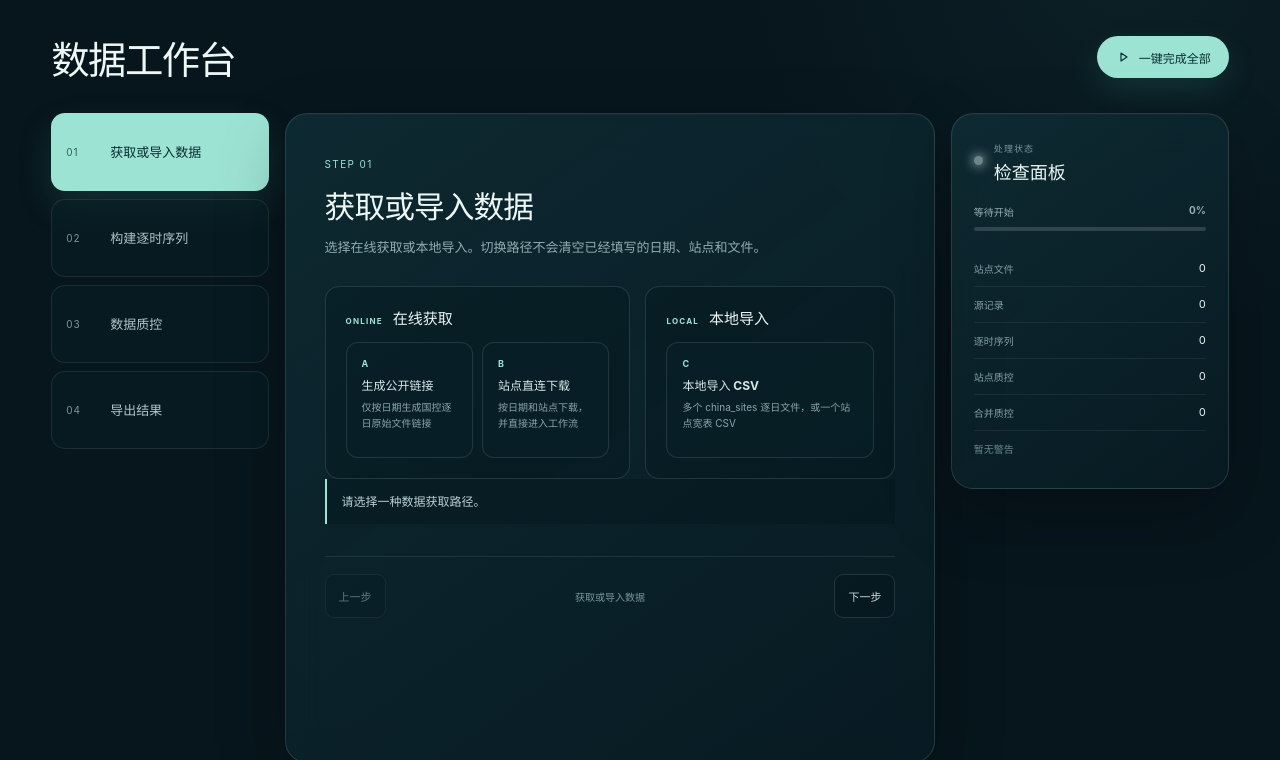
Test: App four-stage shell › builds public links without requiring a station or enabling stage two
(page scrolled)
Click the button "A 生成公开链接 仅按日期生成国控逐日原始文件链接".
click(409, 400)  # box [346,342,473,458]
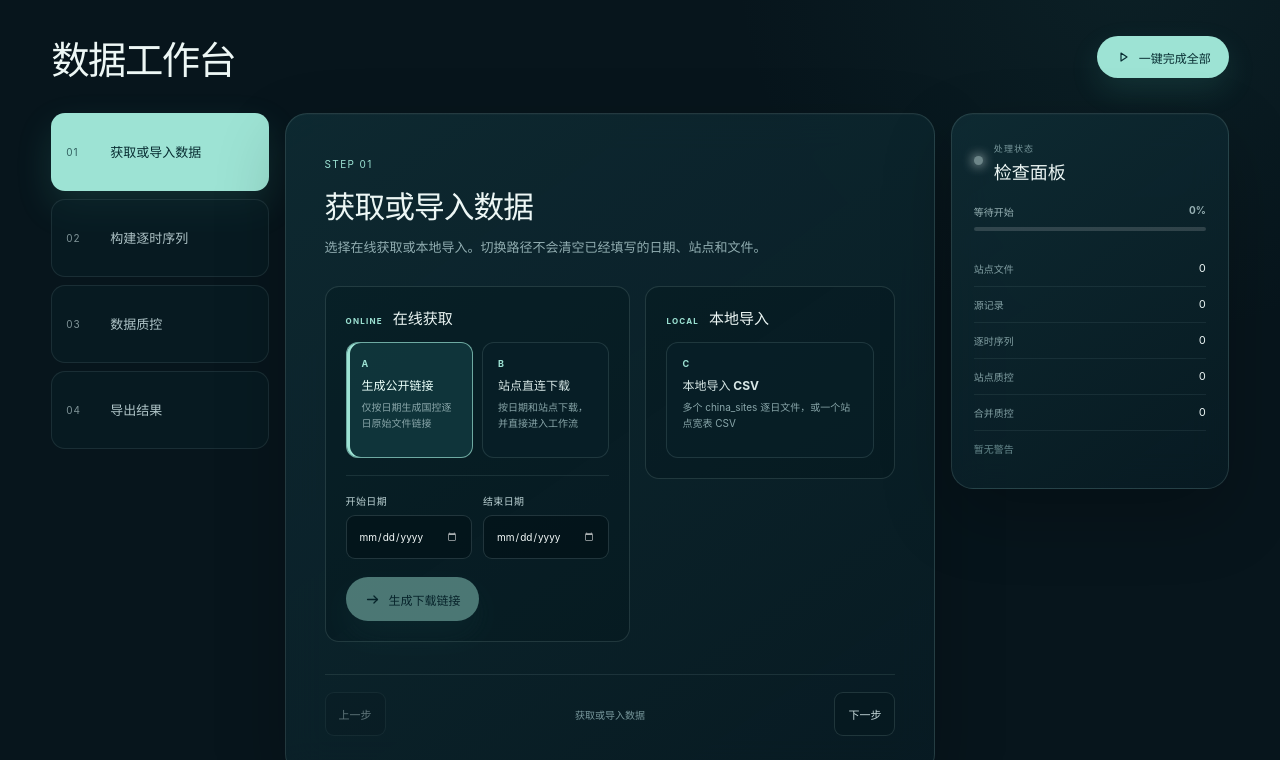
Type "2024-11-01" into the date field labelled "开始日期".
click(409, 537); type("2024-11-01")  # box [346,515,472,559]
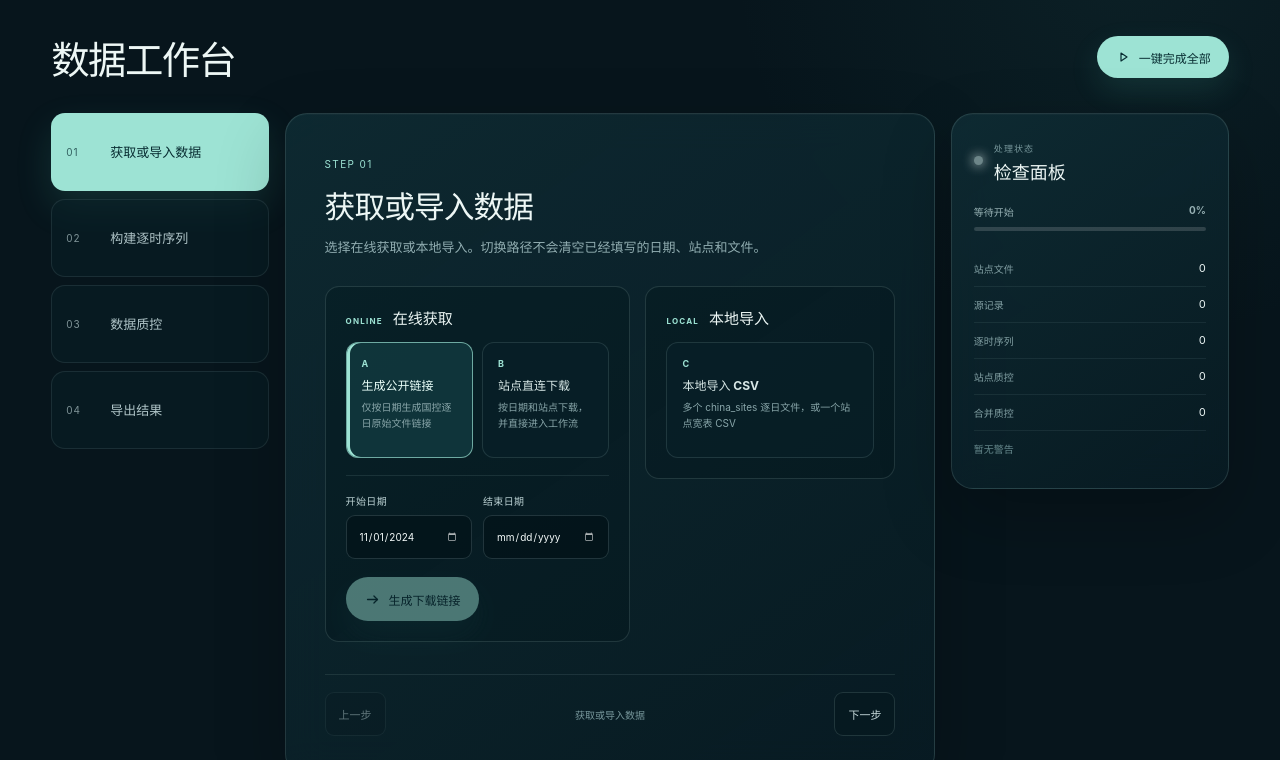
Type "2024-11-01" into the date field labelled "结束日期".
click(546, 537); type("2024-11-01")  # box [483,515,609,559]
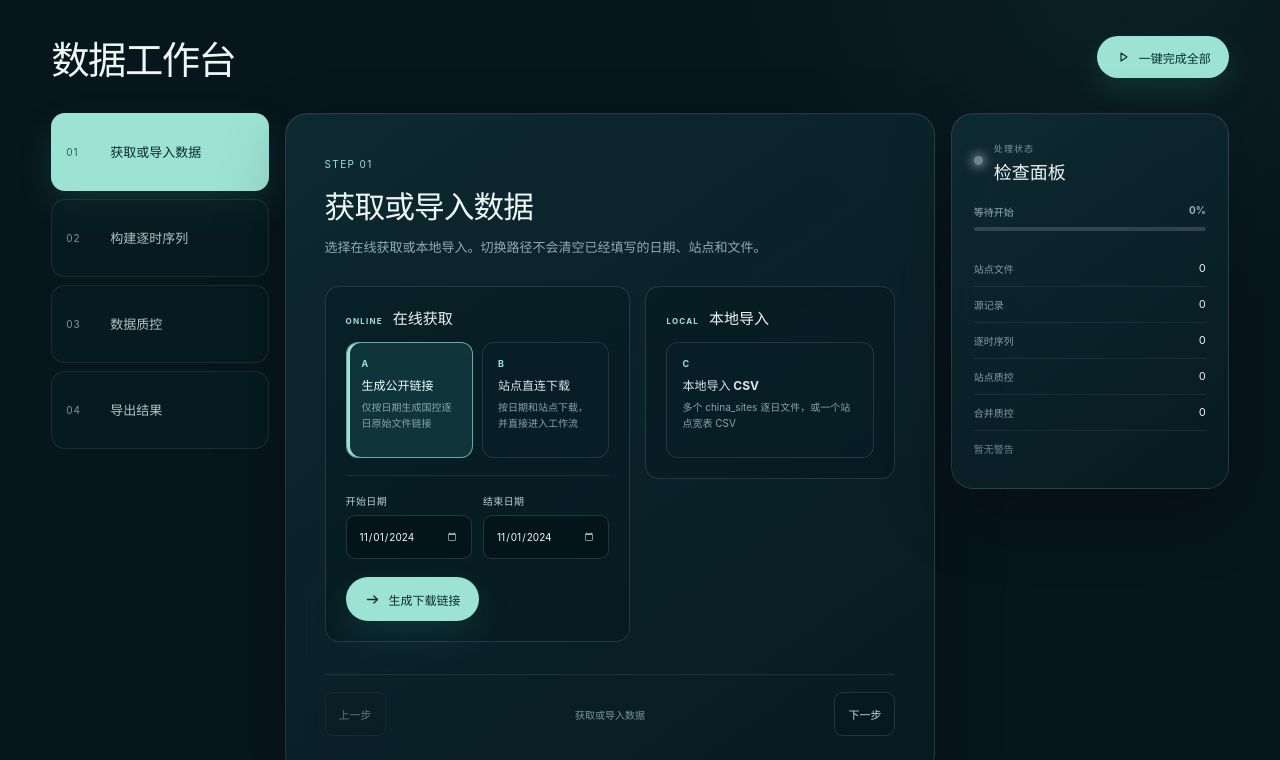
Click the button "生成下载链接".
click(412, 599)  # box [346,577,479,621]
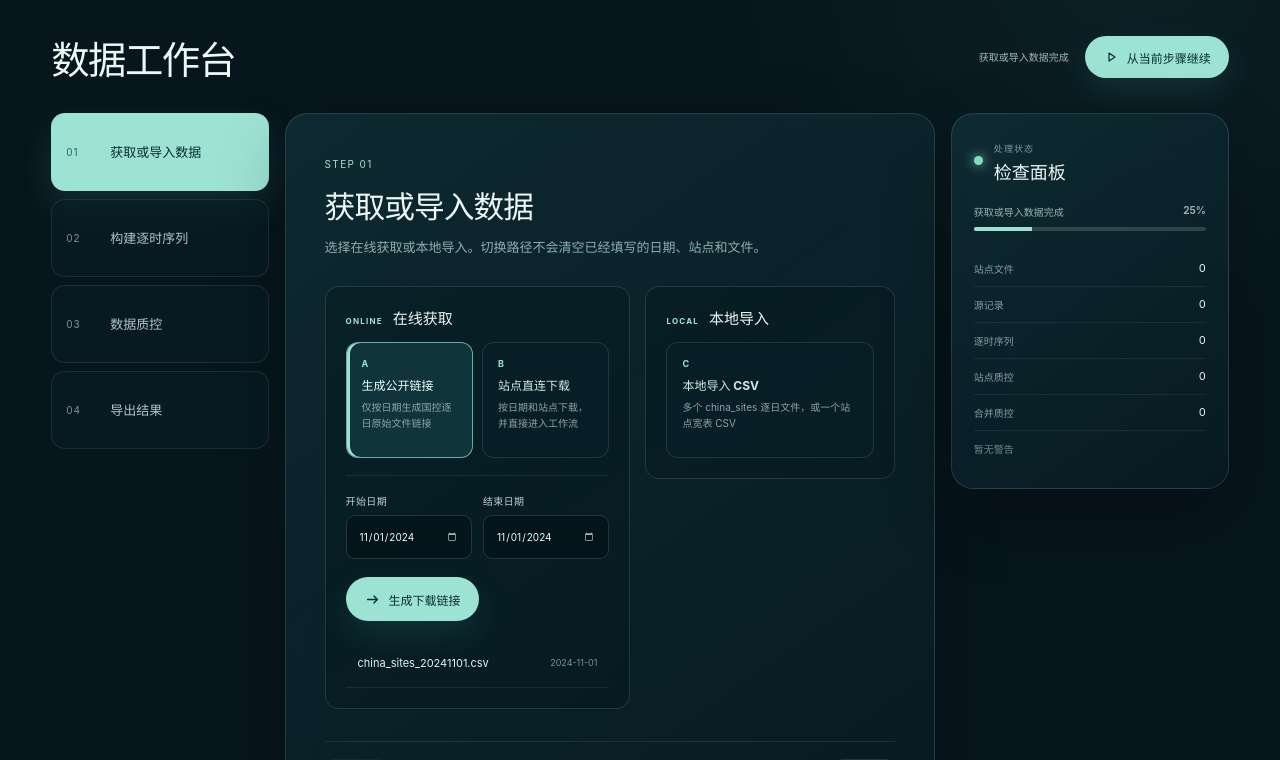
Click the button "02 构建逐时序列".
click(160, 238)  # box [51,199,269,277]
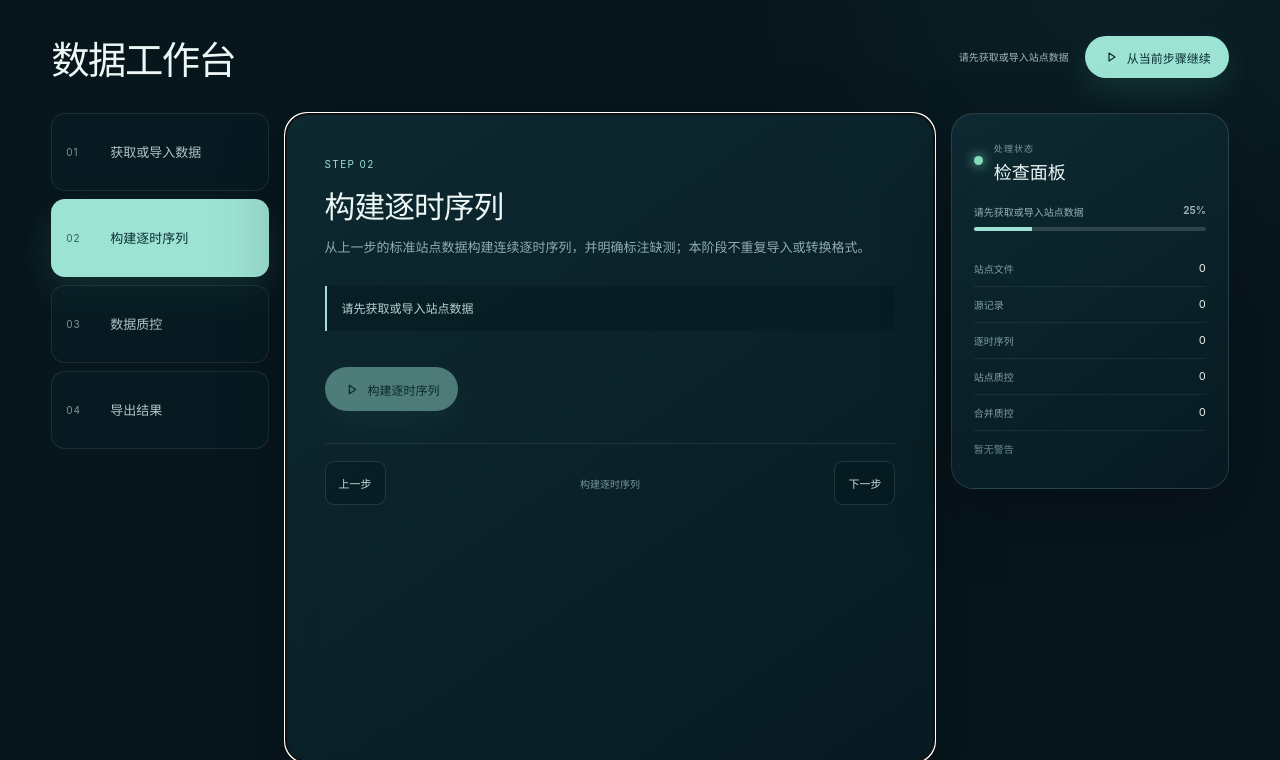
expect the text "请先获取或导入站点数据" below "STEP 0" is shown: met, box [342,301,474,316]
